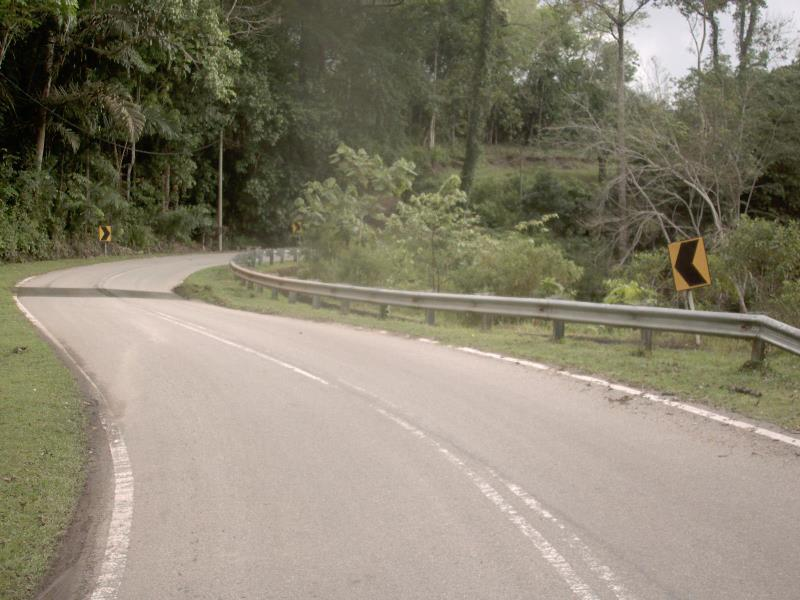traffic_sign: (661, 229, 717, 300)
